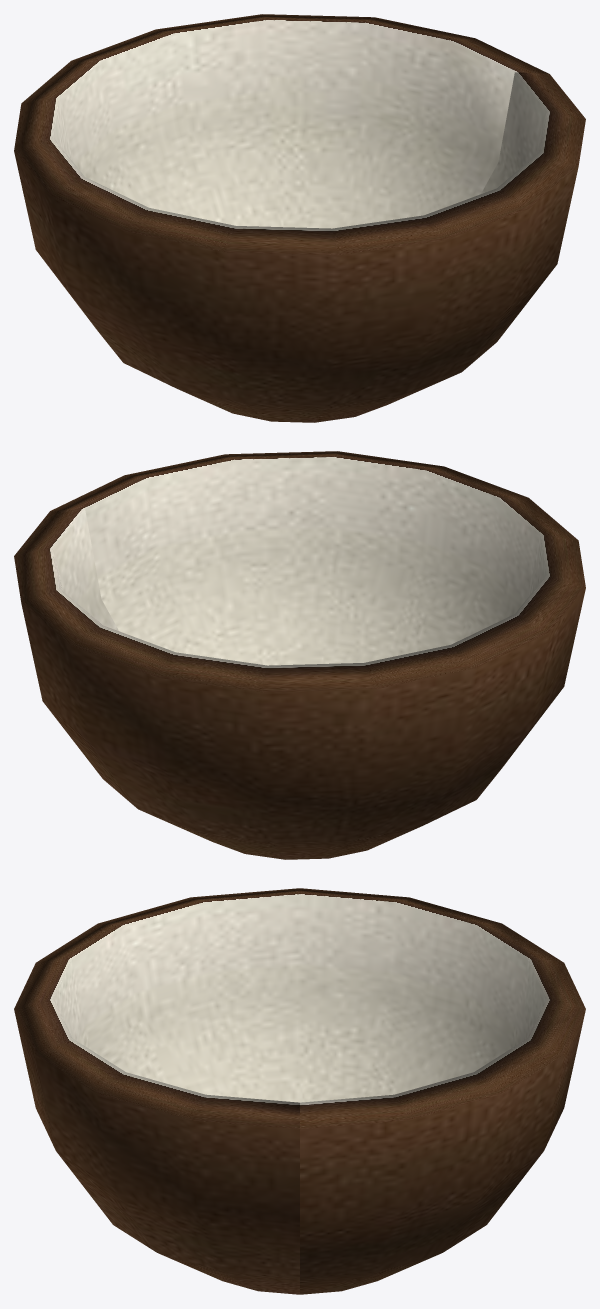
The model's file is turtle-prop-coconut-cup.glb.
The picture shows the model from 3 angles, top to bottom: view 1: azimuth 30°, elevation 25°; view 2: azimuth 150°, elevation 25°; view 3: azimuth 270°, elevation 25°; orthographic projection.
Visible parts, largest first — view 1: coconut-cup; view 2: coconut-cup; view 3: coconut-cup.
Part boxes in pixels (x1,y1,x2,y2): coconut-cup: (14,14,585,422); coconut-cup: (14,451,585,859); coconut-cup: (14,888,585,1294).
Size of the model in its own units: 0.03 by 0.0156 by 0.03.
1 material, 1 textured.
